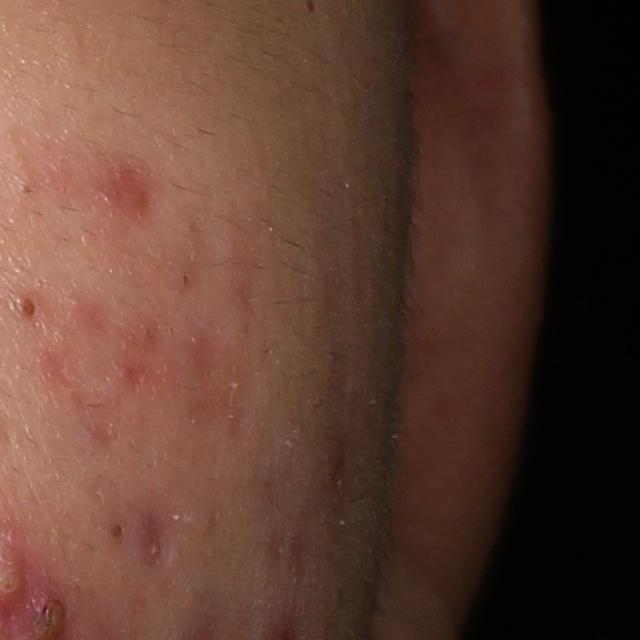atrophic_scar: (134, 508, 173, 572), (122, 364, 145, 397)
comedo: (16, 291, 43, 325), (108, 520, 128, 548)
